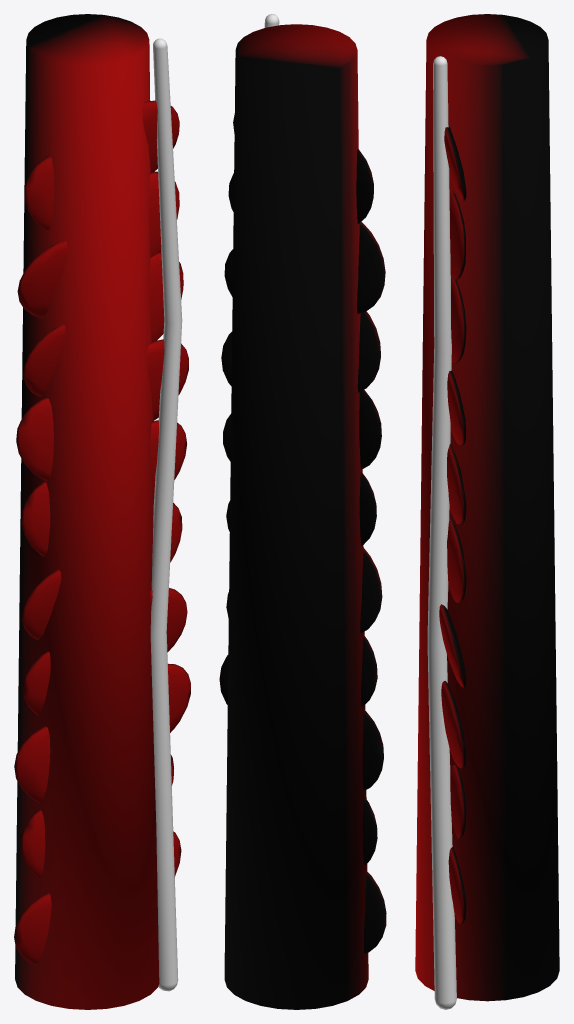
File: prop-goalWall.glb
3 renders of one model, left to right at view 1: azimuth 30°, elevation 25°; view 2: azimuth 150°, elevation 25°; view 3: azimuth 270°, elevation 25°, orthographic.
Visible parts, largest first — view 1: wallLeaves, wallVine; view 2: wallLeaves; view 3: wallLeaves, wallVine.
Boxes of the visible parts, <box> form: wallLeaves: <box>14,14,190,1009</box>; wallVine: <box>150,38,182,991</box>; wallLeaves: <box>219,24,386,1009</box>; wallLeaves: <box>415,14,559,1001</box>; wallVine: <box>427,56,456,1009</box>.
Bounding box in the file's own units: 3.56 × 18.83 × 2.6.
